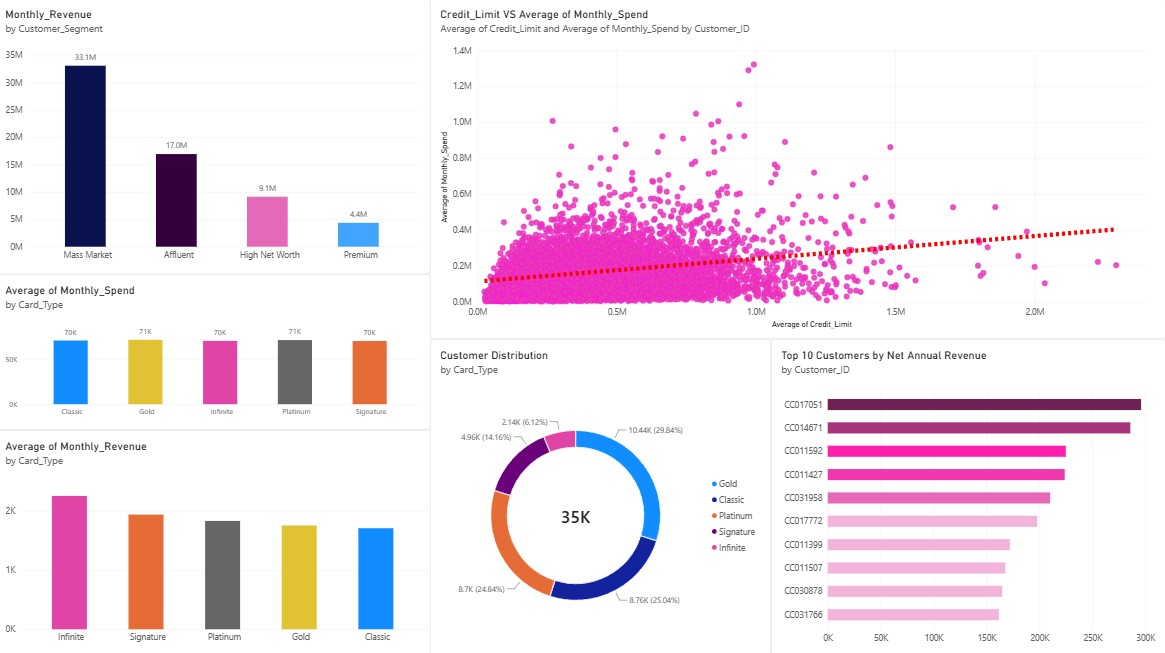

This screenshot's page, from the dashboard's own definition file:
{"tool":"powerbi","page":{"name":"Page 2","canvas":[1920,1080],"ordinal":1},"visuals":[{"type":"clusteredBarChart","fields":{"Category":["Sheet1.Customer_ID"],"Y":["Sum(Sheet1.Net_Annual_Revenue)"]},"box":[1272.3,559.6,646.8,521.3],"z":0},{"type":"clusteredColumnChart","fields":{"Category":["Sheet1.Customer_Segment"],"Y":["Sum(Sheet1.Monthly_Revenue)"]},"box":[0,0,713.5,452.7],"z":1000},{"type":"clusteredColumnChart","fields":{"Category":["Sheet1.Card_Type"],"Y":["Avg(Sheet1.Monthly_Revenue)"]},"box":[0,708.1,725.7,371.6],"z":2000},{"type":"clusteredColumnChart","fields":{"Category":["Sheet1.Card_Type"],"Y":["Avg(Sheet1.Monthly_Spend)"]},"box":[0,452.7,713.5,255.4],"z":3000},{"type":"scatterChart","title":"Credit_Limit VS Average of Monthly_Spend","fields":{"Category":["Sheet1.Customer_ID"],"X":["Avg(Sheet1.Credit_Limit)"],"Y":["Avg(Sheet1.Monthly_Spend)"]},"box":[713.5,0,1206.8,559.5],"z":3001},{"type":"donutChart","fields":{"Category":["Sheet1.Card_Type"],"Y":["CountNonNull(Sheet1.Customer_ID)"]},"box":[713.5,559.5,559.5,520.3],"z":3002}]}

Visuals, with their boxes in screenshot pixels (x1, y1, x2, y2), scaled from the page's 1920x1080 canvas onto the 1165x653 screenshot:
clusteredBarChart - Sheet1.Customer_ID x Sum(Sheet1.Net_Annual_Revenue): Rect(772, 338, 1164, 652)
clusteredColumnChart - Sheet1.Customer_Segment x Sum(Sheet1.Monthly_Revenue): Rect(0, 0, 433, 274)
clusteredColumnChart - Sheet1.Card_Type x Avg(Sheet1.Monthly_Revenue): Rect(0, 428, 440, 652)
clusteredColumnChart - Sheet1.Card_Type x Avg(Sheet1.Monthly_Spend): Rect(0, 274, 433, 428)
"Credit_Limit VS Average of Monthly_Spend" scatterChart: Rect(433, 0, 1164, 338)
donutChart - Sheet1.Card_Type x CountNonNull(Sheet1.Customer_ID): Rect(433, 338, 772, 652)
